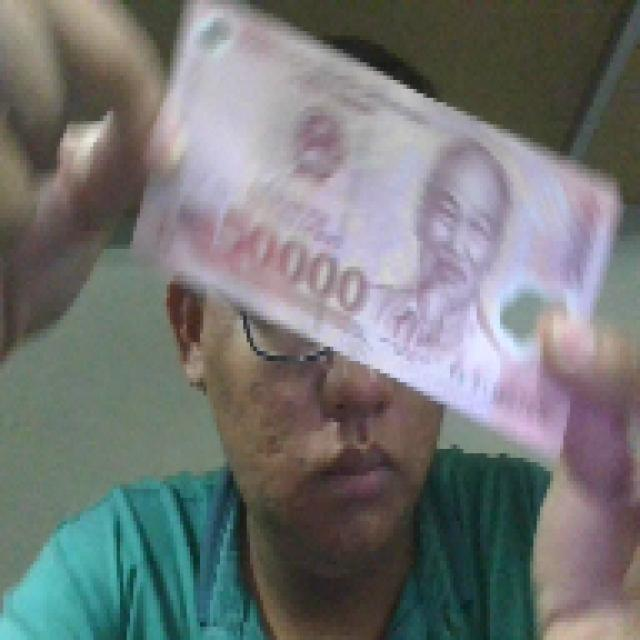50 000 VND: (127, 0, 630, 476)
